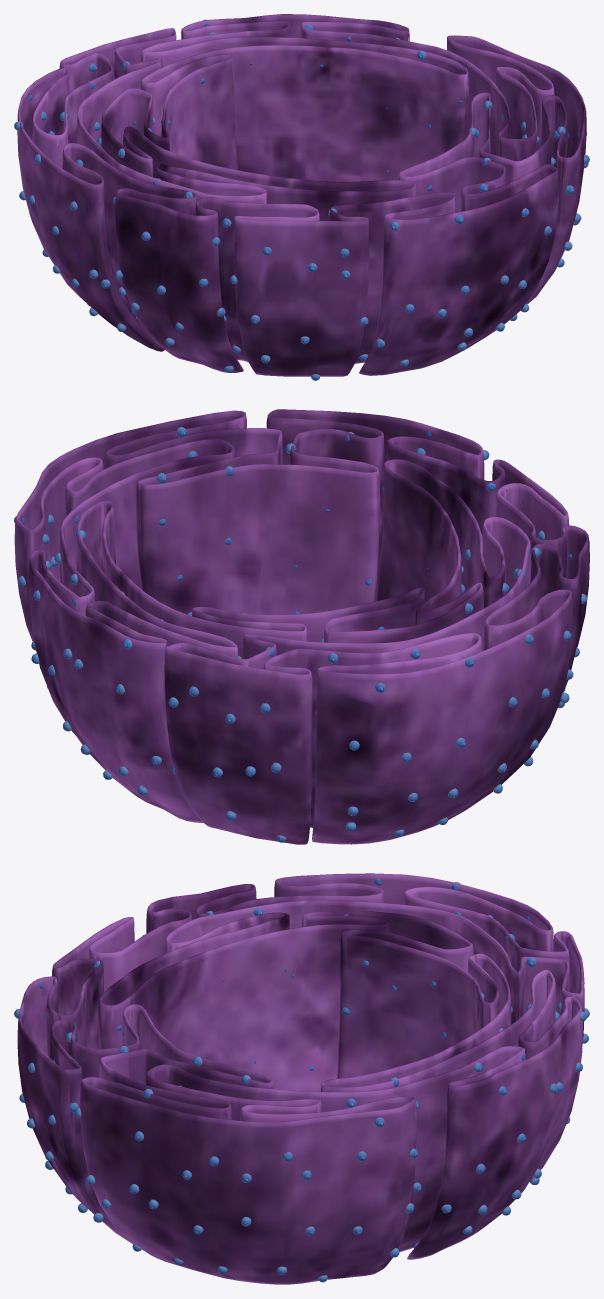
Rendered from rer.glb.
The picture shows the model from 3 angles, top to bottom: view 1: azimuth 30°, elevation 25°; view 2: azimuth 150°, elevation 25°; view 3: azimuth 270°, elevation 25°; orthographic projection. The views are drawn at different scales.
Visible parts, largest first — view 1: rer; view 2: rer; view 3: rer.
Boxes of the visible parts, <box> form: rer: <box>14,14,589,380</box>; rer: <box>14,409,589,844</box>; rer: <box>14,873,589,1284</box>.
Bounding box in the file's own units: 2.38 × 0.9117 × 2.29.
2 materials, 2 textured.
